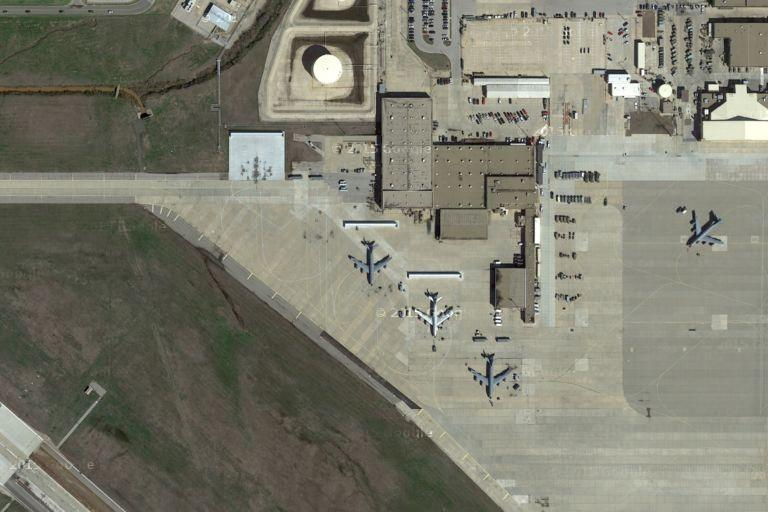E-8: (413, 291, 460, 340)
KC-135: (345, 237, 394, 290), (466, 349, 514, 399), (680, 206, 727, 250)
